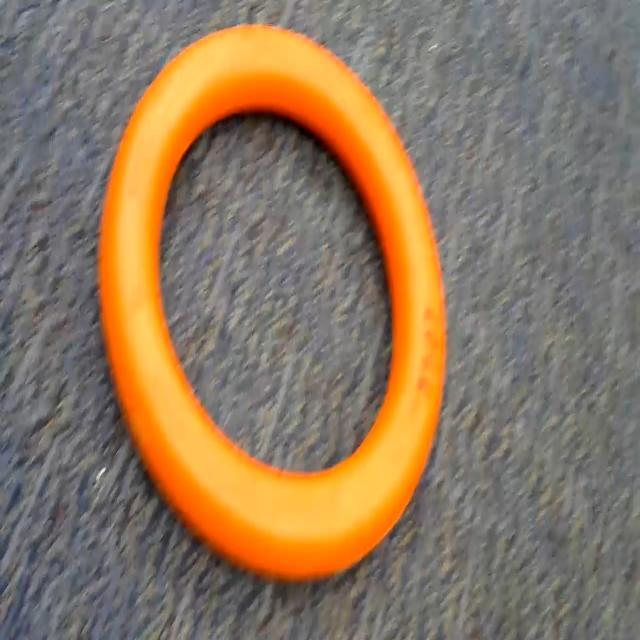note: (91, 25, 448, 602)
